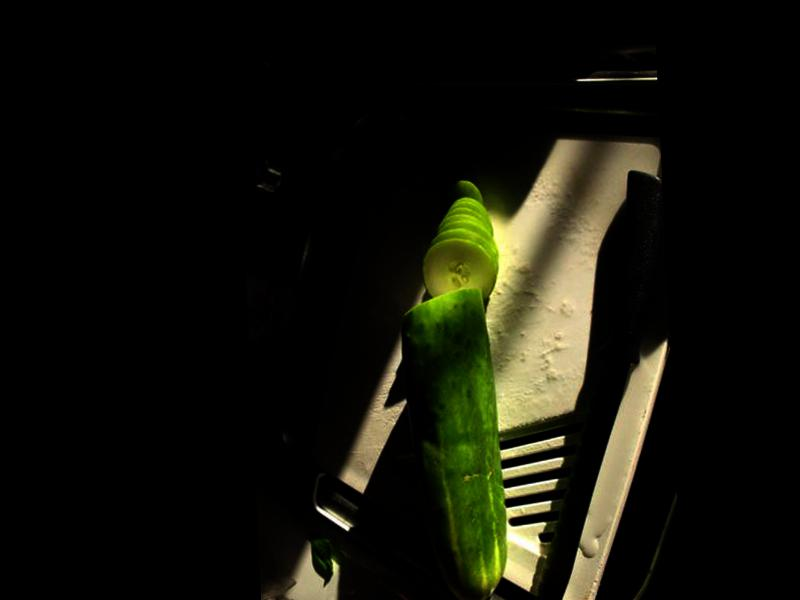Cucumber: (400, 285, 510, 600)
